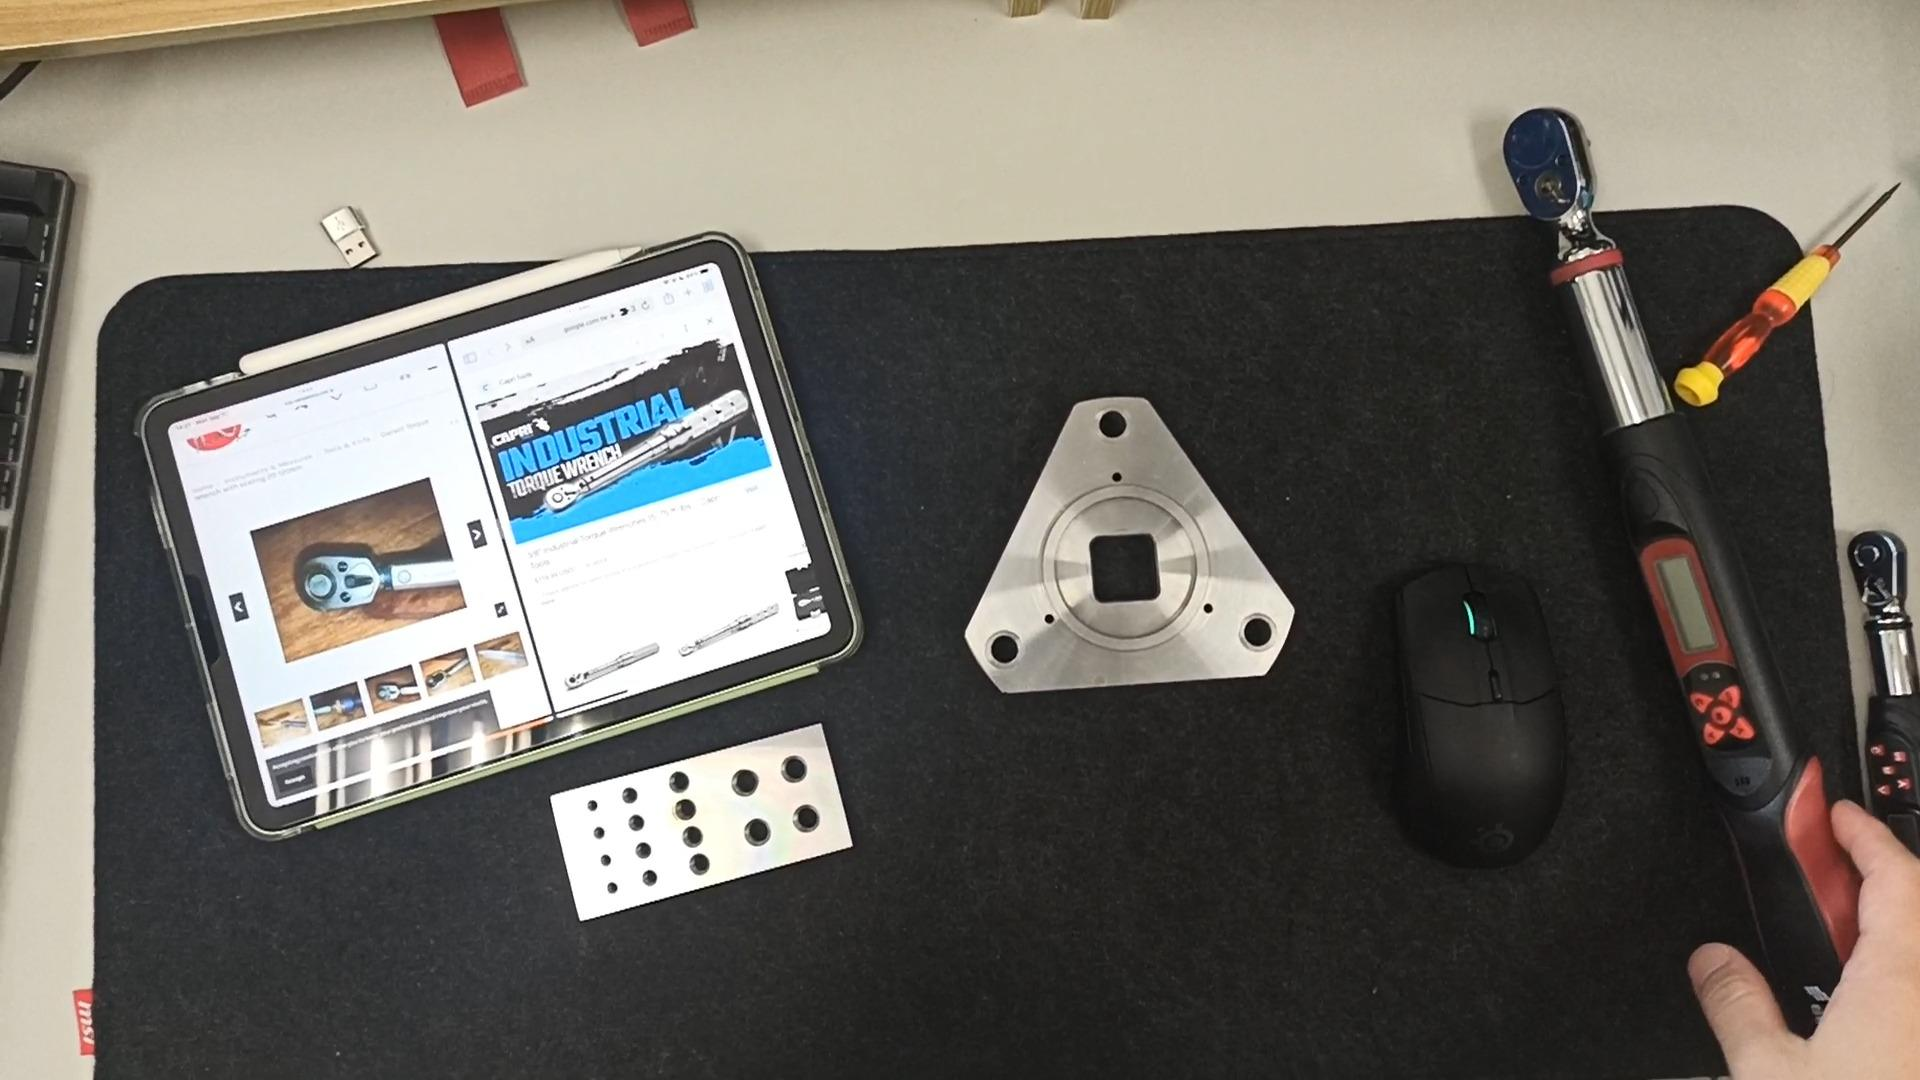Tool: (1496, 106, 1616, 265), (1841, 527, 1907, 619), (295, 552, 381, 610), (546, 483, 584, 509)
hole: (1240, 610, 1286, 658), (988, 627, 1027, 672), (724, 768, 760, 805), (779, 754, 816, 789), (790, 804, 826, 837), (743, 817, 777, 851), (1096, 410, 1127, 446), (667, 767, 697, 796), (687, 853, 717, 879), (674, 800, 702, 825), (681, 828, 709, 853), (616, 787, 642, 810), (642, 868, 667, 891), (623, 814, 647, 835), (628, 844, 652, 865), (595, 852, 616, 872)
